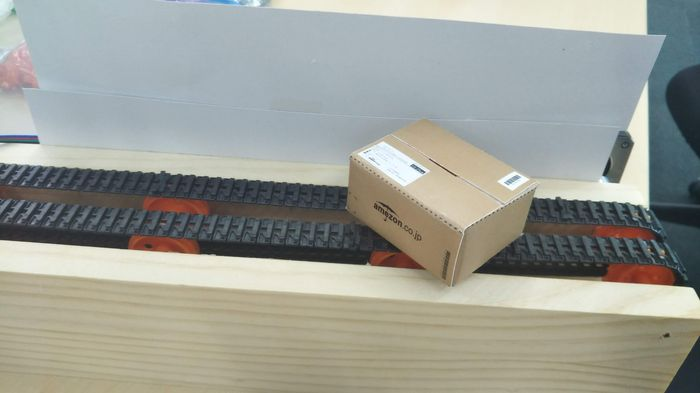box1: (342, 115, 538, 289)
